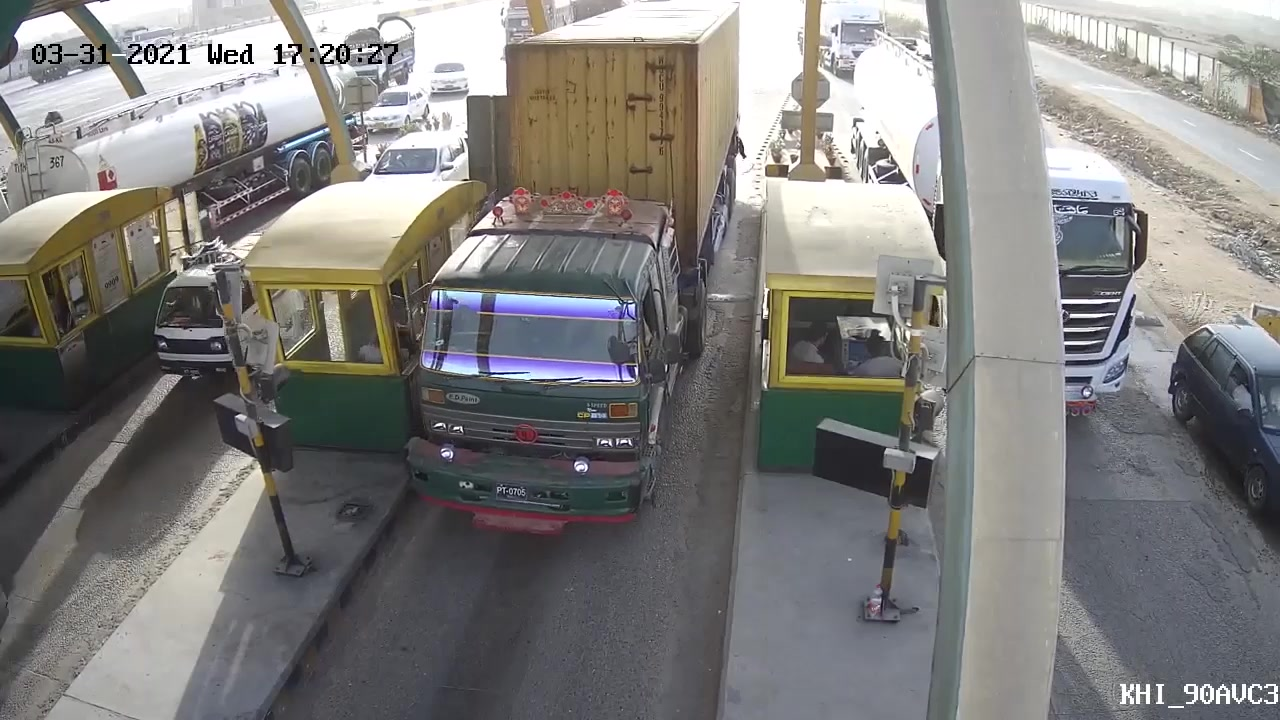F6: (379, 39, 716, 536)
